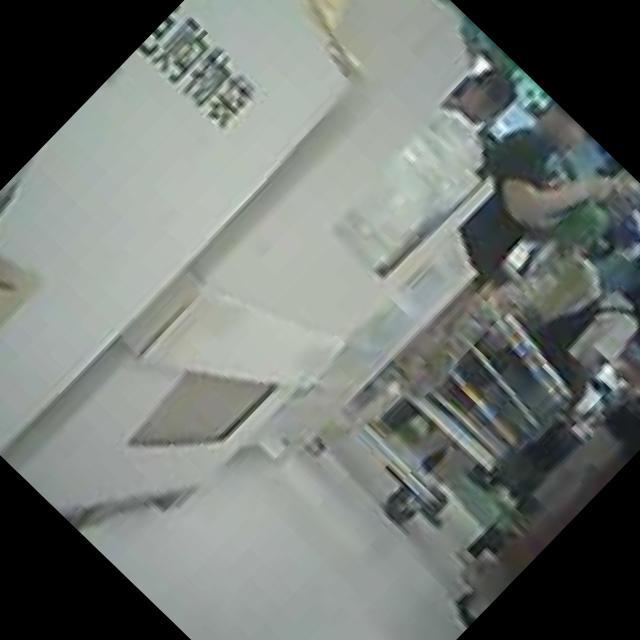person: (432, 295, 640, 630), (428, 95, 626, 294), (534, 230, 640, 393), (444, 58, 522, 136)
